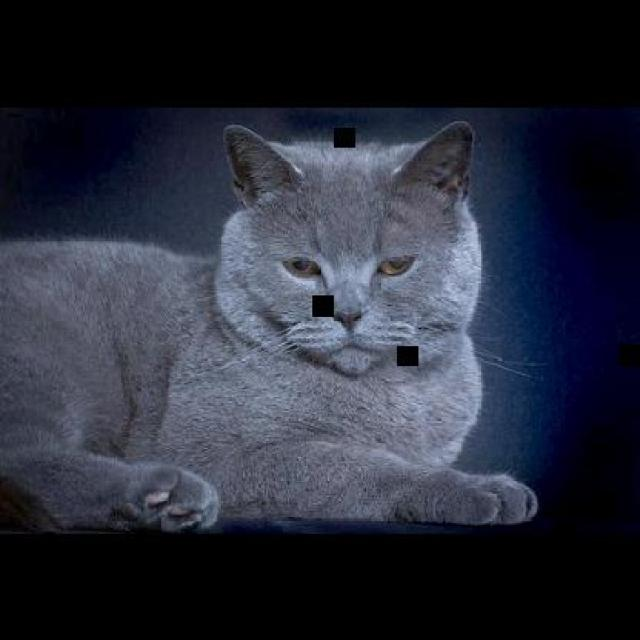unauthorized: (0, 117, 542, 534)
